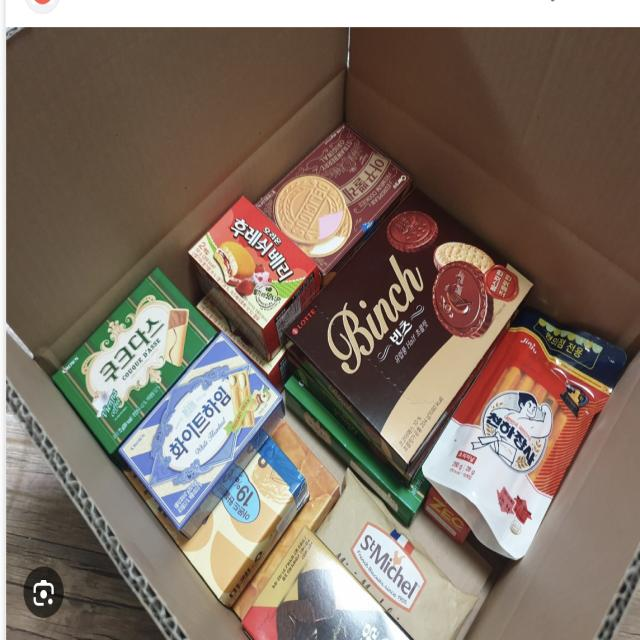biodegradable: (287, 172, 532, 476), (56, 254, 218, 454), (178, 157, 334, 350), (129, 330, 277, 525), (86, 530, 229, 640)
